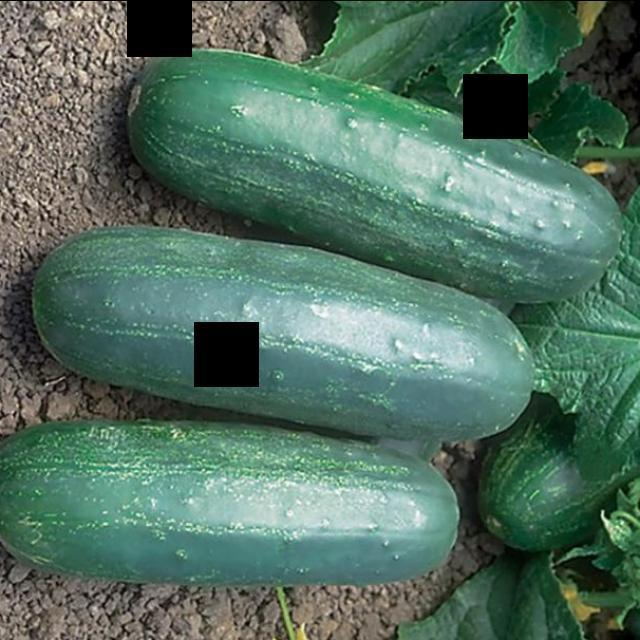cucumber: (0, 43, 629, 298), (27, 222, 536, 443), (0, 424, 462, 596)
